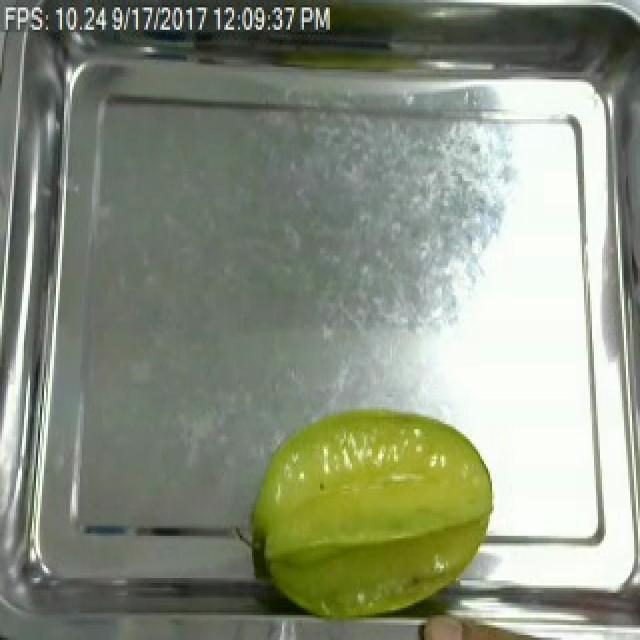fruit: (240, 397, 506, 627)
